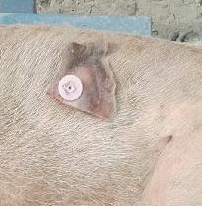text: (51, 66, 95, 111)
